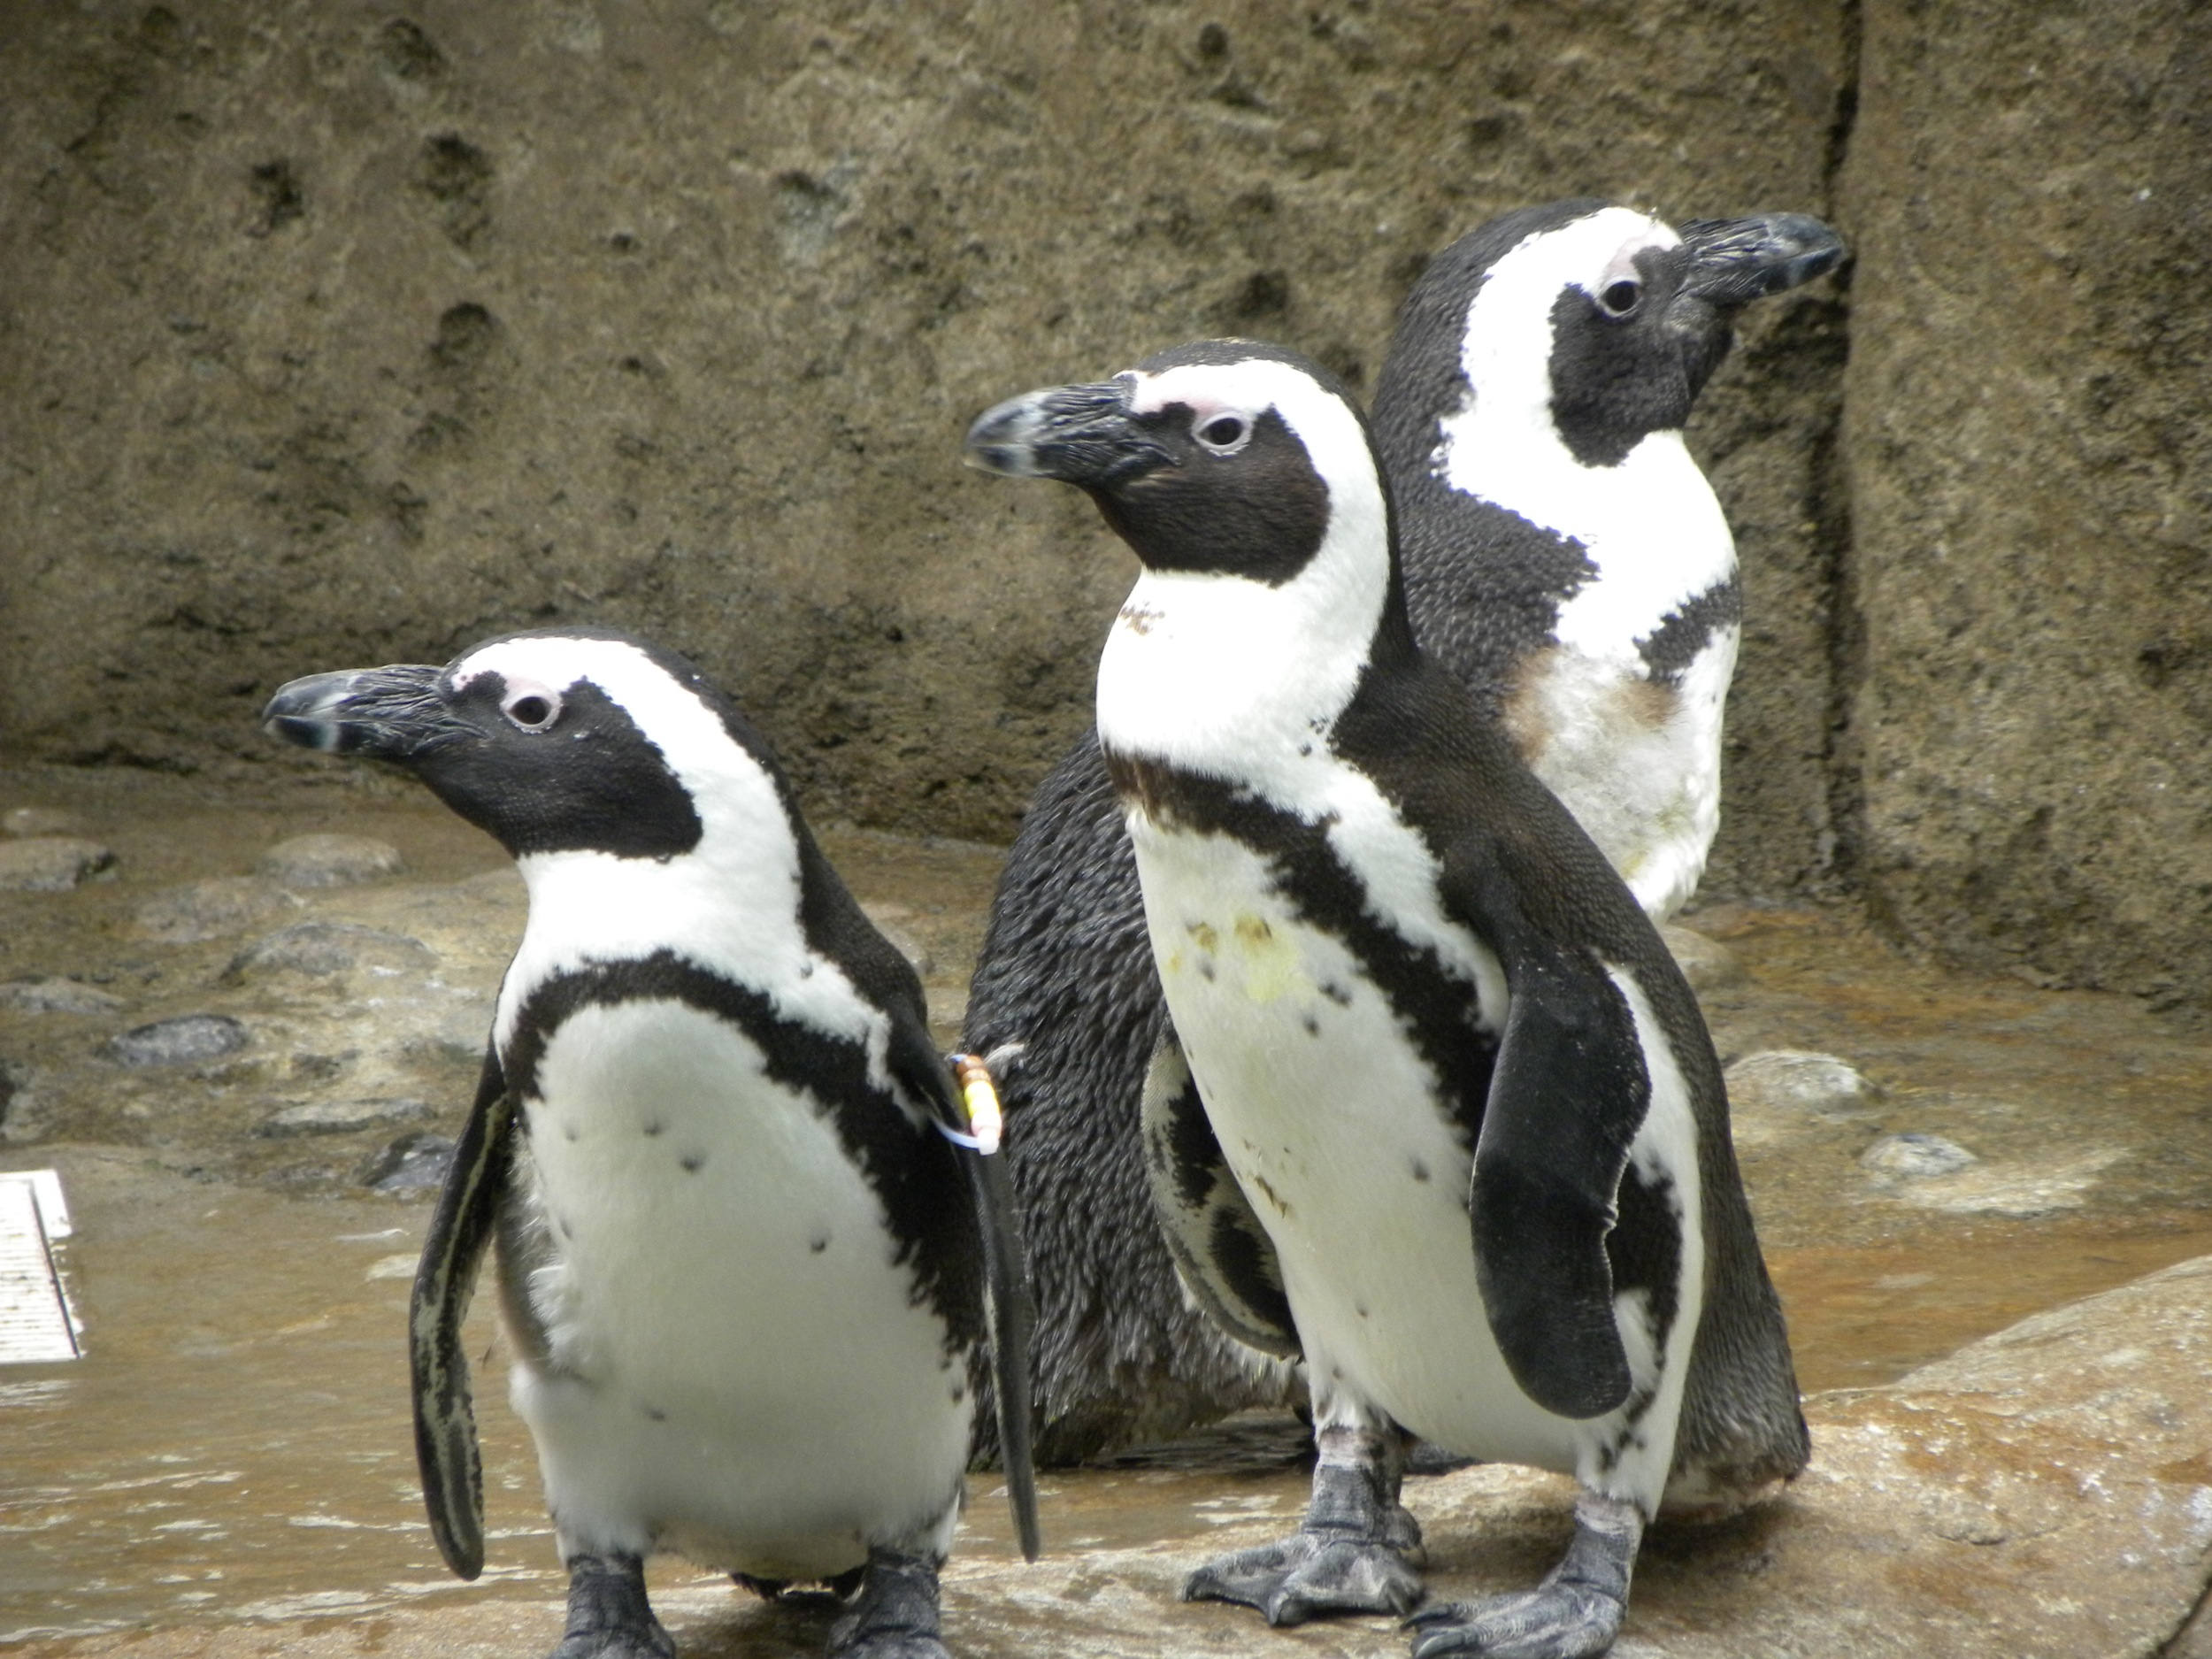penguin: (942, 342, 1820, 1659), (260, 655, 1000, 1659)
